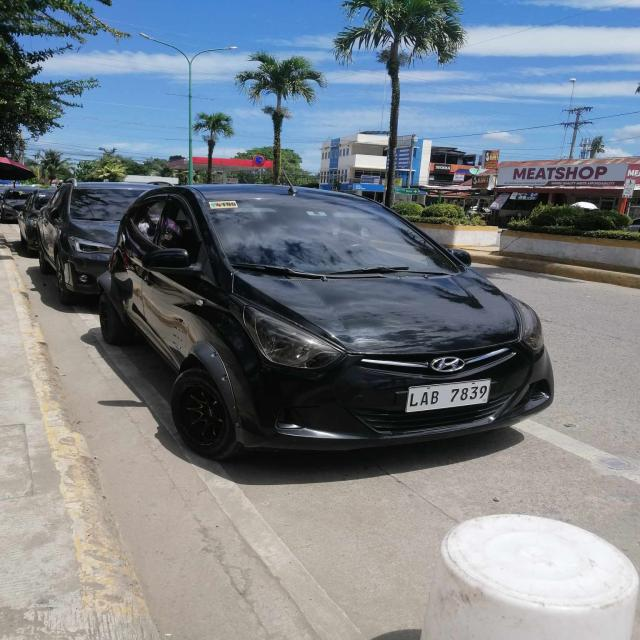license-plate: (403, 377, 494, 415)
